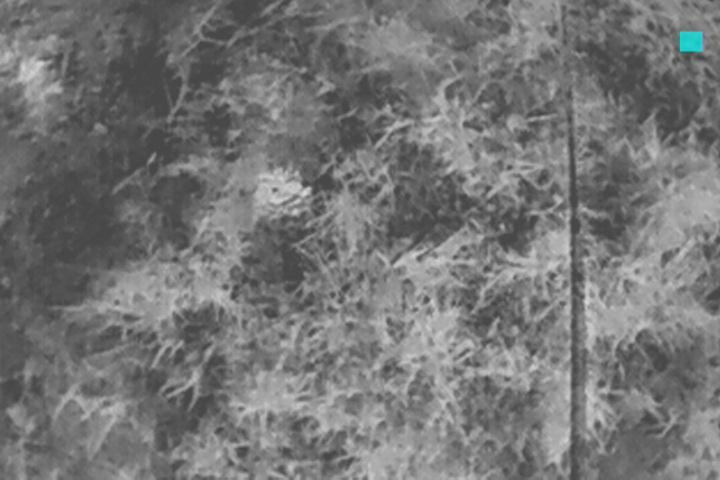landmine: (256, 166, 310, 214)
